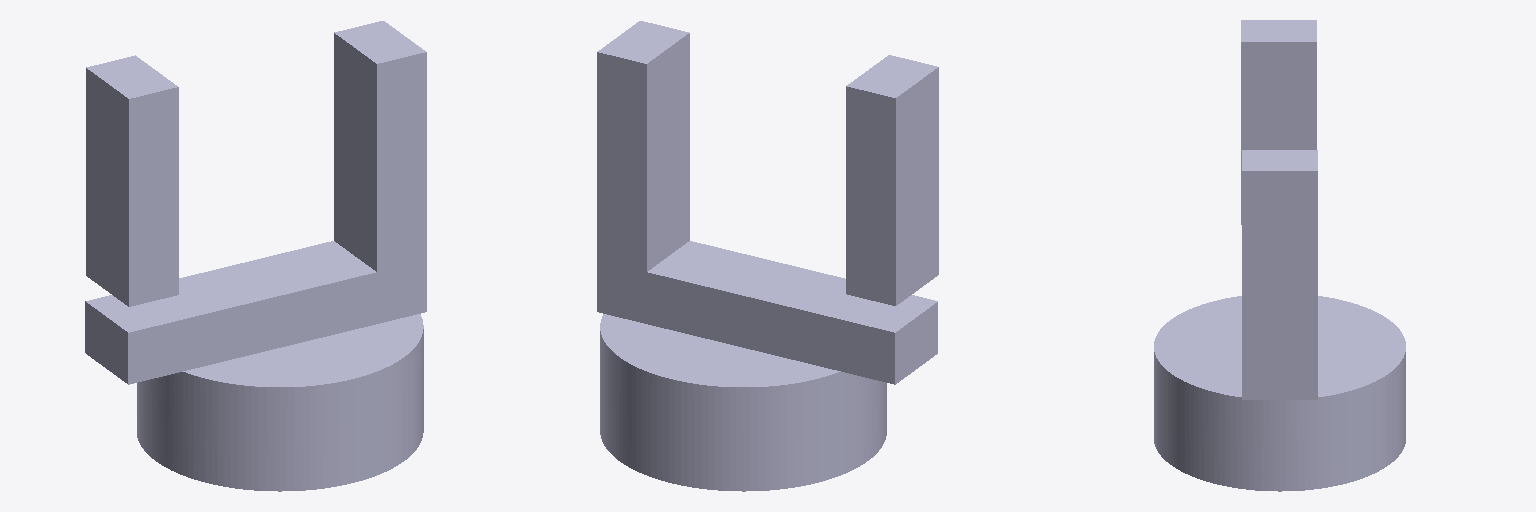
URDF robot description (my_robot_arm):
<?xml version="1.0" ?>
<robot name="my_robot_arm">
  <!--Generated by CROSS, a ROS Workbench for FreeCAD (https://github.com/galou/freecad.cross)-->
  <link name="base_link">
    <visual>
      <!--base_link_part/Body.-->
      <origin rpy="0.0 -0.0 0.0" xyz="0.0 0.0 0.0"/>
      <geometry>
        <mesh filename="package://my_robot_arm/meshes/Unnamed_base_link_body.dae"/>
      </geometry>
    </visual>
    <collision>
      <!--base_link_part/Body.-->
      <origin rpy="0.0 -0.0 0.0" xyz="0.0 0.0 0.0"/>
      <geometry>
        <mesh filename="package://my_robot_arm/meshes/Unnamed_base_link_body.dae"/>
      </geometry>
    </collision>
    <inertial>
      <mass value="0.0"/>
      <origin rpy="0.0 -0.0 0.0" xyz="0.0 0.0 0.0"/>
      <inertia ixx="0.0" ixy="0.0" ixz="0.0" iyy="0.0" iyz="0.0" izz="0.0"/>
    </inertial>
  </link>
  <link name="finger_link">
    <visual>
      <!--finger_part/Body001.-->
      <origin rpy="0.0 -0.0 0.0" xyz="0.0 0.0 0.0"/>
      <geometry>
        <mesh filename="package://my_robot_arm/meshes/Unnamed_finger_body.dae"/>
      </geometry>
    </visual>
    <collision>
      <!--finger_part/Body001.-->
      <origin rpy="0.0 -0.0 0.0" xyz="0.0 0.0 0.0"/>
      <geometry>
        <mesh filename="package://my_robot_arm/meshes/Unnamed_finger_body.dae"/>
      </geometry>
    </collision>
    <inertial>
      <mass value="0.0"/>
      <origin rpy="0.0 -0.0 0.0" xyz="0.0 0.0 0.0"/>
      <inertia ixx="0.0" ixy="0.0" ixz="0.0" iyy="0.0" iyz="0.0" izz="0.0"/>
    </inertial>
  </link>
  <joint name="finger_joint" type="prismatic">
    <parent link="base_link"/>
    <child link="finger_link"/>
    <origin rpy="0.0 -0.0 0.0" xyz="-0.06 0.001 0.07"/>
    <axis xyz="1 0 0"/>
    <limit effort="1000.0" lower="0.00" upper="0.078" velocity="10.0"/>
  </joint>
</robot>

--- What the picture shows (computed from the rendered views, not written in the file) ---
3 views of the same robot in one strip: view 1: azimuth 30°, elevation 25°; view 2: azimuth 150°, elevation 25°; view 3: azimuth 270°, elevation 25° (orthographic).
Model my_robot_arm with 2 links and 1 joints (1 prismatic), rooted at base_link, posed every joint at zero.
Visible links, largest first — view 1: base_link, finger_link; view 2: base_link, finger_link; view 3: base_link, finger_link.
Boxes of the visible links, bbox=[...] form: base_link: bbox=[85, 21, 426, 491]; finger_link: bbox=[86, 55, 178, 306]; base_link: bbox=[597, 21, 937, 491]; finger_link: bbox=[846, 55, 938, 305]; base_link: bbox=[1154, 150, 1405, 491]; finger_link: bbox=[1241, 20, 1316, 224].
Size in the robot's own frame: 0.12 by 0.1 by 0.15 metres.
2 mesh visuals loaded from 2 distinct referenced files (2 Collada DAE).